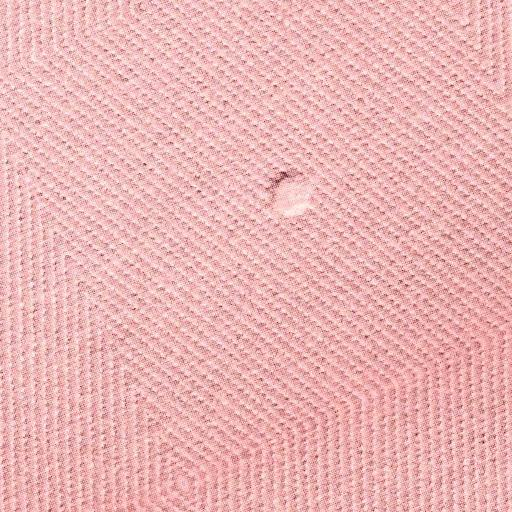knot: (262, 165, 323, 224)
